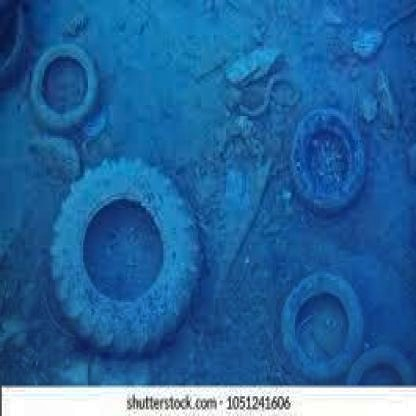tire: (53, 149, 196, 363), (286, 101, 374, 230), (276, 265, 361, 387), (36, 44, 105, 136)
